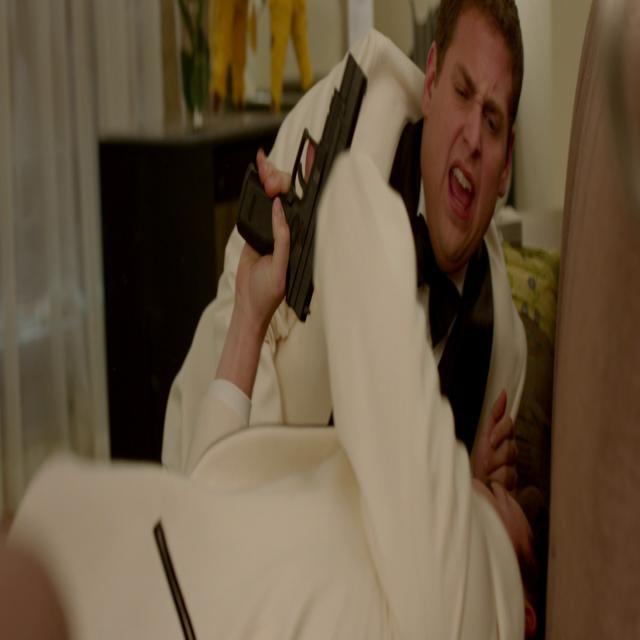gun-knife-thesis - v11 Yolov5 augmented: (231, 40, 370, 343)
